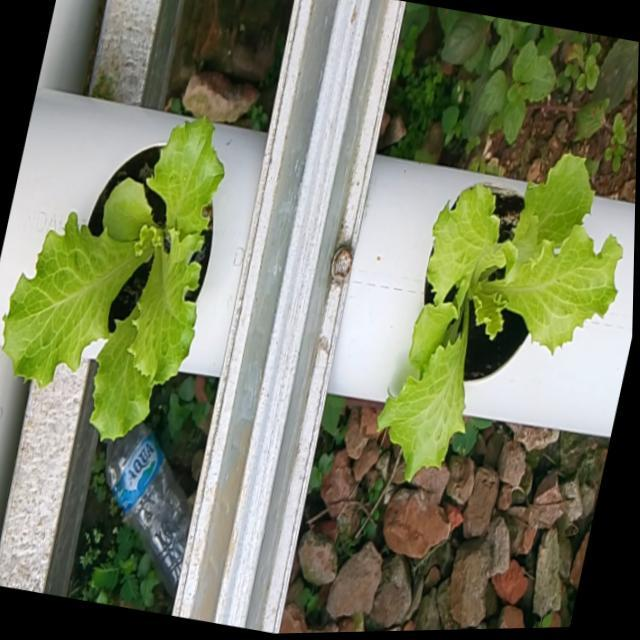Baby: (381, 146, 627, 473), (7, 111, 229, 435)
